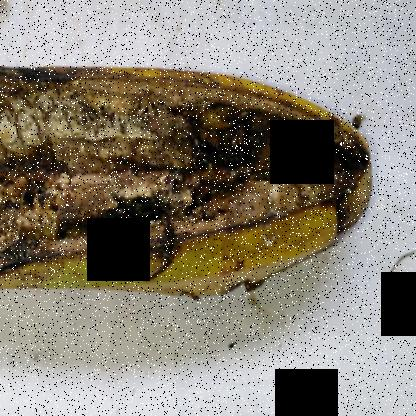rotten: (1, 55, 352, 291)
